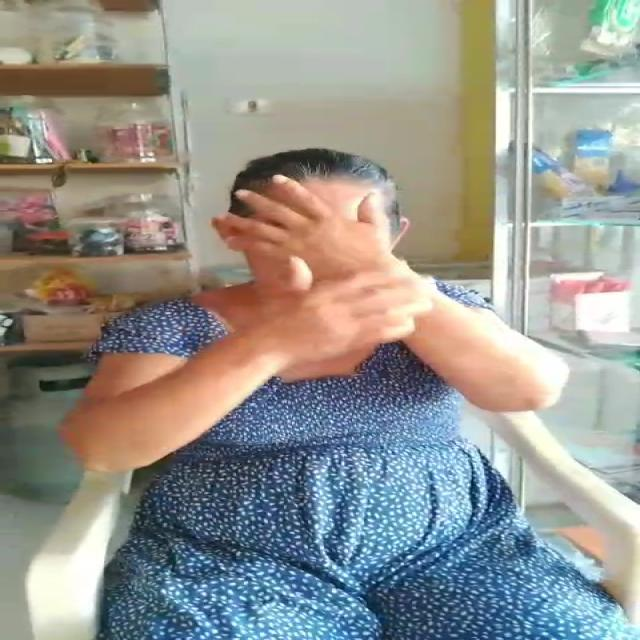7_mano_rostro: (231, 185, 436, 335)
